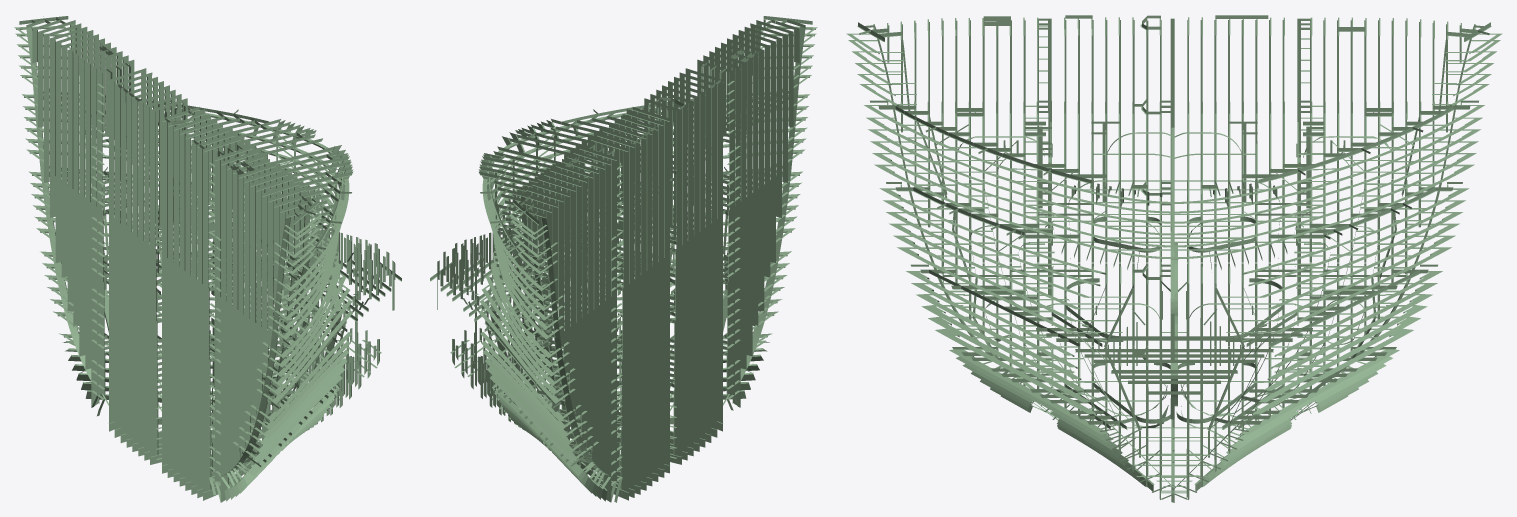
The model's file is FORE_PEAK_TK.glb.
3 renders of one model, left to right at view 1: azimuth 30°, elevation 25°; view 2: azimuth 150°, elevation 25°; view 3: azimuth 270°, elevation 25°, orthographic. The views are drawn at different scales.
Bounding box in the file's own units: 20.64 × 30.15 × 43.37.
